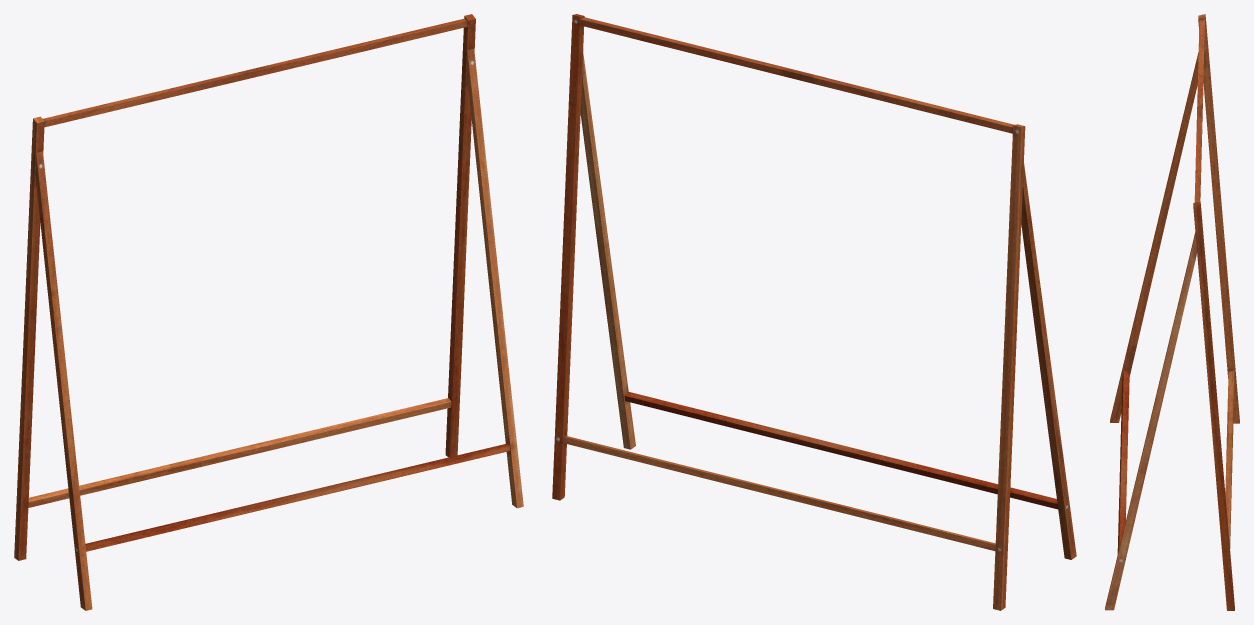
File: pendulumLeg.glb
The picture shows the model from 3 angles, left to right: view 1: azimuth 30°, elevation 25°; view 2: azimuth 150°, elevation 25°; view 3: azimuth 270°, elevation 25°; orthographic projection. The views are drawn at different scales.
Visible parts, largest first — view 1: Khung_treo.001; view 2: Khung_treo.001; view 3: Khung_treo.001.
Boxes of the visible parts, box(x1,y1,x2,y2) form: Khung_treo.001: box(14, 14, 523, 610); Khung_treo.001: box(552, 14, 1076, 610); Khung_treo.001: box(1105, 14, 1239, 610).
Bounding box in the file's own units: 4.49 × 4.45 × 1.34.
1 material, 1 textured.
